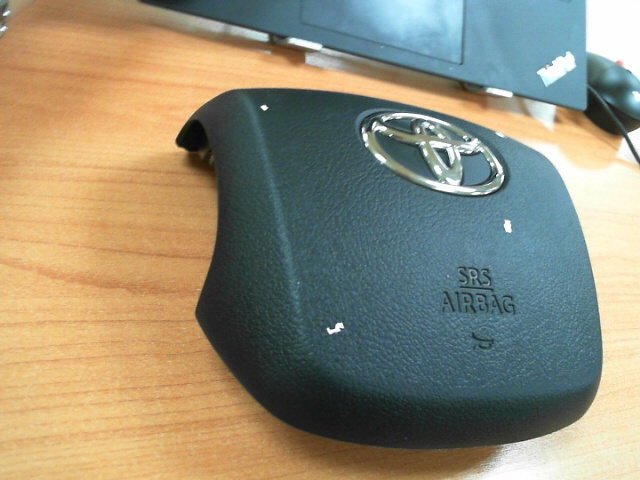Airbag: (326, 322, 345, 335), (503, 219, 513, 234), (259, 104, 268, 112), (496, 132, 505, 138)
